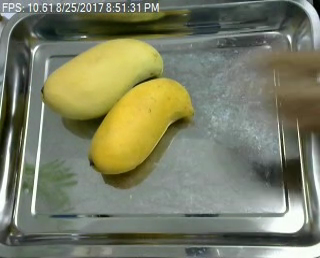Mango: (89, 72, 196, 176), (43, 35, 166, 123)
